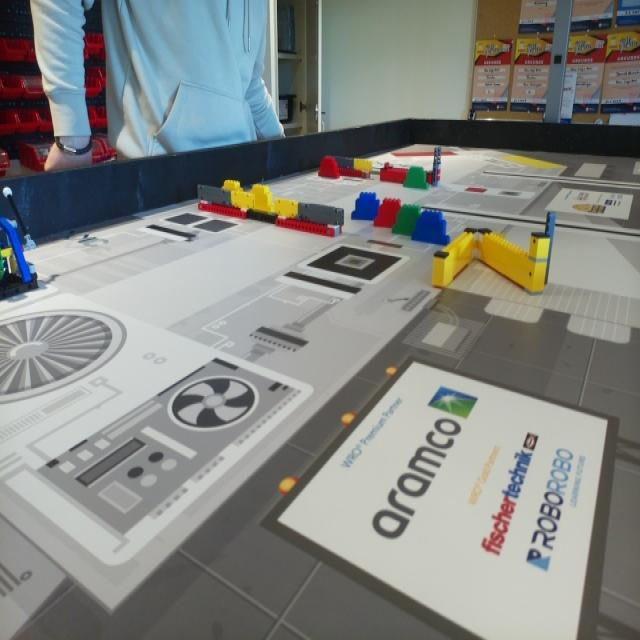blau: (413, 211, 449, 245), (351, 194, 379, 220)
gruen: (396, 205, 419, 236), (406, 165, 426, 190)
rot: (374, 200, 400, 227), (321, 158, 337, 176)
yellow: (256, 184, 274, 210), (221, 178, 242, 189)
